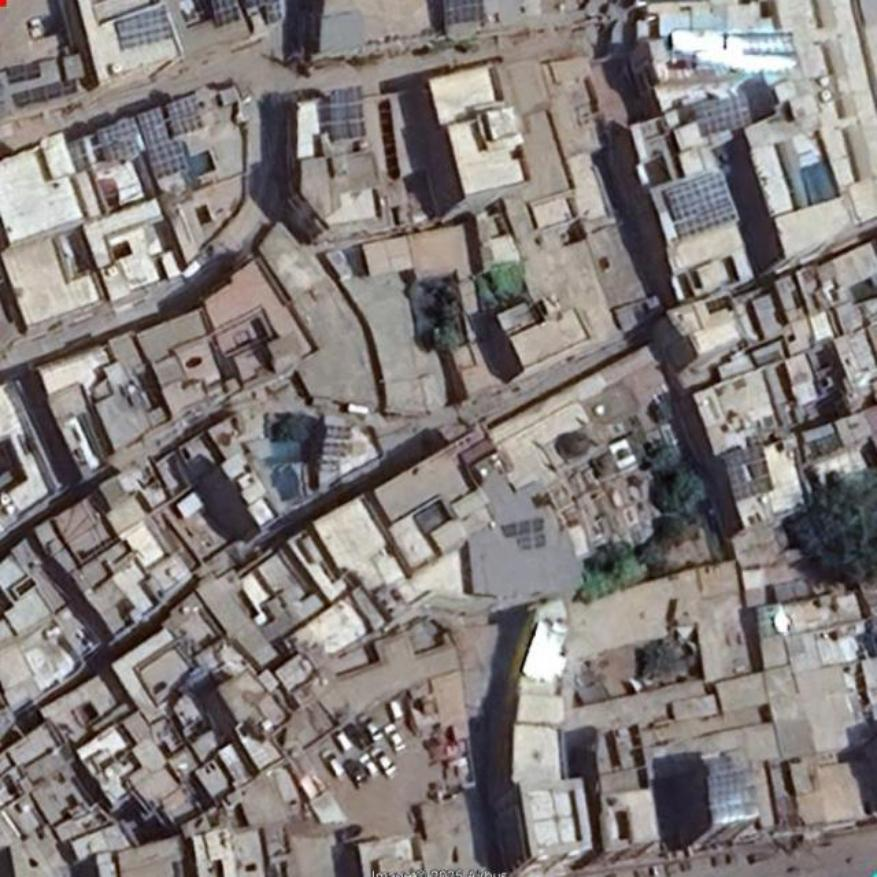Solarpanel: (662, 175, 735, 236), (137, 107, 192, 179), (708, 764, 760, 821), (112, 6, 174, 52), (691, 91, 748, 141), (724, 444, 771, 501), (12, 77, 79, 108), (98, 118, 145, 162), (329, 87, 366, 140), (163, 96, 207, 137), (499, 516, 547, 548), (440, 0, 490, 24), (5, 58, 44, 86), (211, 0, 244, 29)
